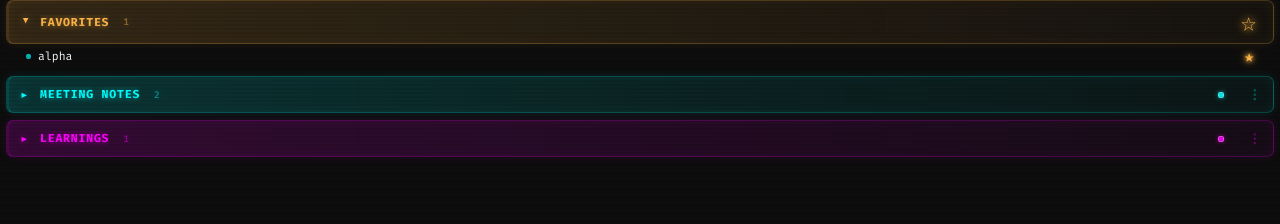
Scenario: KnowledgeTree favorites › a starred file still appears under its own source folder when expanded
# Expand the "Meeting Notes" source.
Click the text "Meeting Notes" at (90, 94), box [40, 87, 140, 102]
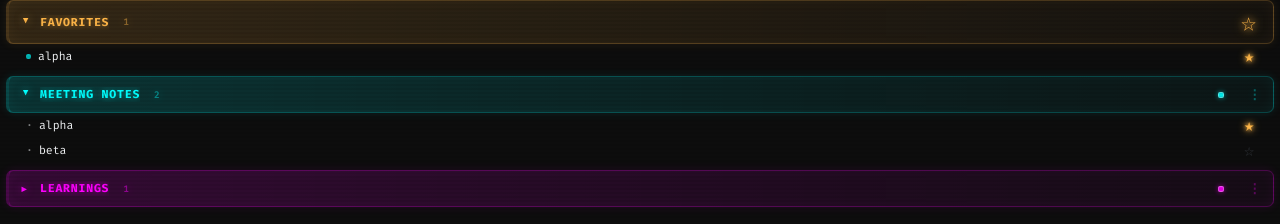
Expected: the text "alpha" is shown 2 times, [38, 49, 72, 64]; [39, 118, 73, 133]
